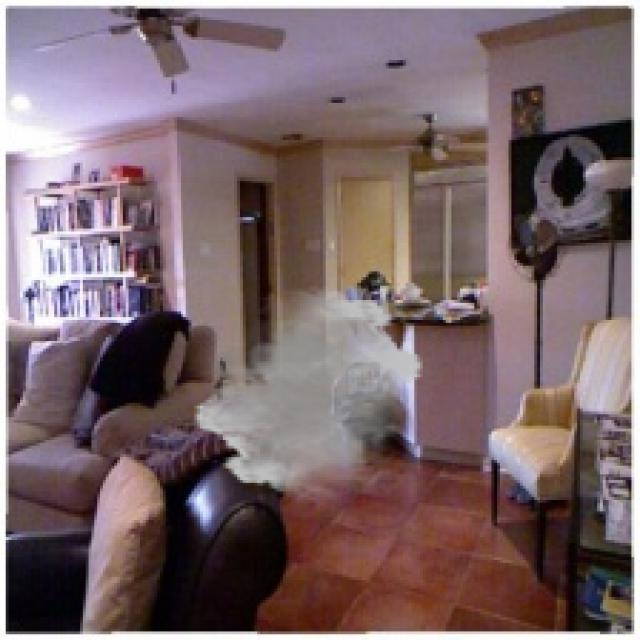smoke: (191, 286, 426, 497)
